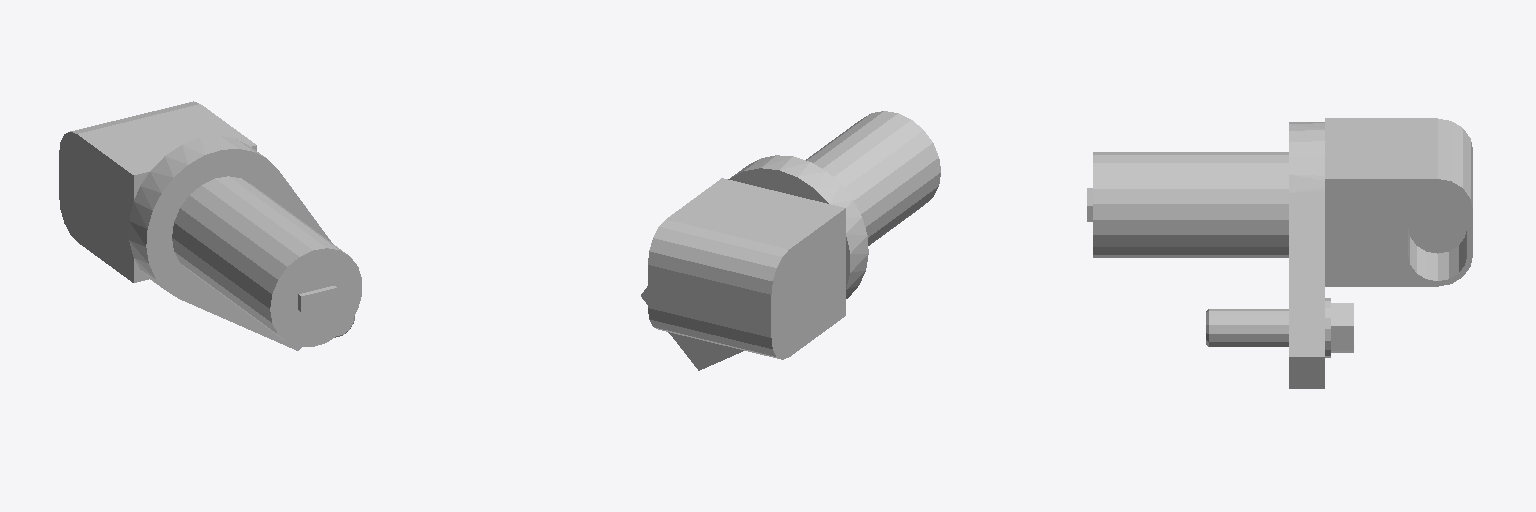
The model's file is Датчик положения коленчатого вала.obj.
The picture shows the model from 3 angles: view 1: azimuth 30°, elevation 25°; view 2: azimuth 150°, elevation 25°; view 3: azimuth 270°, elevation 25°; orthographic projection.
Visible parts, largest first — view 1: Датчик_положения_коленчатого_вала; view 2: Датчик_положения_коленчатого_вала; view 3: Датчик_положения_коленчатого_вала.
Part boxes in pixels (x1,y1,x2,y2): Датчик_положения_коленчатого_вала: (59, 101, 361, 350); Датчик_положения_коленчатого_вала: (641, 111, 940, 370); Датчик_положения_коленчатого_вала: (1087, 118, 1472, 388).
Size of the model in its own units: 40.86 by 40.87 by 65.